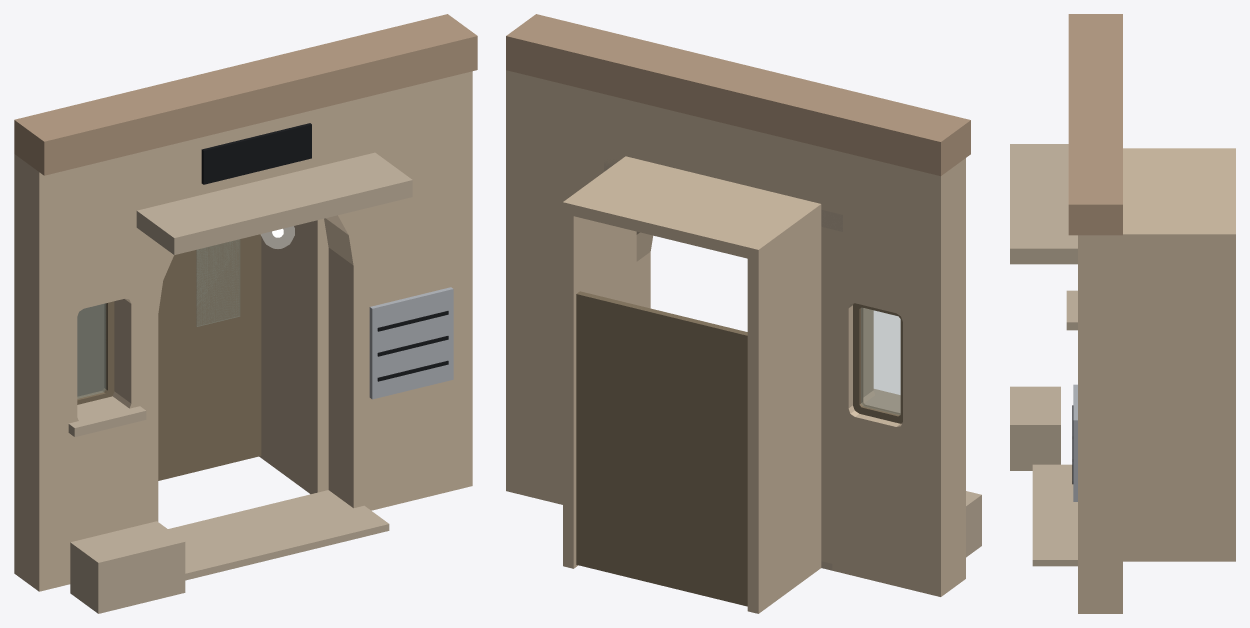
Rendered from city_res_entry.glb.
3 renders of one model, left to right at view 1: azimuth 30°, elevation 25°; view 2: azimuth 150°, elevation 25°; view 3: azimuth 270°, elevation 25°, orthographic. The views are drawn at different scales.
Visible parts, largest first — view 1: CityResEntry_Wall, CityResEntry_Band, CityResEntry_Door1, CityResEntry_RevealR, CityResEntry_Hood, CityResEntry_Step, CityResEntry_Bench, CityResEntry_Letterboxes, CityResEntry_Plaque, CityResEntry_Door0, CityResEntry_Glass1, CityResEntry_LobbyGlass (+3 smaller); view 2: CityResEntry_Wall, CityResEntry_Band, CityResEntry_RevealL, CityResEntry_Door1, CityResEntry_Door0, CityResEntry_Lobby, CityResEntry_RevealR, CityResEntry_LobbyGlass, CityResEntry_LobbyFrame, CityResEntry_Bench; view 3: CityResEntry_RevealR, CityResEntry_Wall, CityResEntry_Band, CityResEntry_Lobby, CityResEntry_Hood, CityResEntry_Step, CityResEntry_Bench, CityResEntry_Letterboxes, CityResEntry_LobbySill.
Part boxes in pixels (x1=…): CityResEntry_Wall: x1=14, y1=71, x2=472, y2=591; CityResEntry_Band: x1=14, y1=14, x2=477, y2=175; CityResEntry_Door1: x1=174, y1=234, x2=261, y2=476; CityResEntry_RevealR: x1=259, y1=218, x2=328, y2=494; CityResEntry_Hood: x1=136, y1=152, x2=412, y2=254; CityResEntry_Step: x1=168, y1=490, x2=389, y2=580; CityResEntry_Bench: x1=70, y1=521, x2=185, y2=613; CityResEntry_Letterboxes: x1=369, y1=287, x2=453, y2=399; CityResEntry_Plaque: x1=201, y1=123, x2=311, y2=184; CityResEntry_Door0: x1=158, y1=255, x2=174, y2=480; CityResEntry_Glass1: x1=196, y1=239, x2=239, y2=326; CityResEntry_LobbyGlass: x1=77, y1=303, x2=105, y2=398; CityResEntry_Wall: x1=506, y1=70, x2=965, y2=596; CityResEntry_Band: x1=506, y1=14, x2=970, y2=176; CityResEntry_RevealL: x1=747, y1=215, x2=821, y2=613; CityResEntry_Door1: x1=576, y1=291, x2=666, y2=585; CityResEntry_Door0: x1=663, y1=312, x2=747, y2=606; CityResEntry_Lobby: x1=563, y1=156, x2=821, y2=261; CityResEntry_RevealR: x1=563, y1=213, x2=636, y2=568; CityResEntry_LobbyGlass: x1=861, y1=308, x2=900, y2=414; CityResEntry_LobbyFrame: x1=853, y1=303, x2=902, y2=423; CityResEntry_Bench: x1=966, y1=491, x2=981, y2=557; CityResEntry_RevealR: x1=1123, y1=244, x2=1235, y2=561; CityResEntry_Wall: x1=1078, y1=235, x2=1122, y2=613; CityResEntry_Band: x1=1068, y1=14, x2=1122, y2=235; CityResEntry_Lobby: x1=1123, y1=148, x2=1235, y2=244; CityResEntry_Hood: x1=1010, y1=144, x2=1077, y2=264; CityResEntry_Step: x1=1032, y1=464, x2=1077, y2=566; CityResEntry_Bench: x1=1010, y1=386, x2=1060, y2=470; CityResEntry_Letterboxes: x1=1073, y1=384, x2=1077, y2=501; CityResEntry_LobbySill: x1=1066, y1=290, x2=1077, y2=330.
Size of the model in its own units: 4 by 4 by 2.
